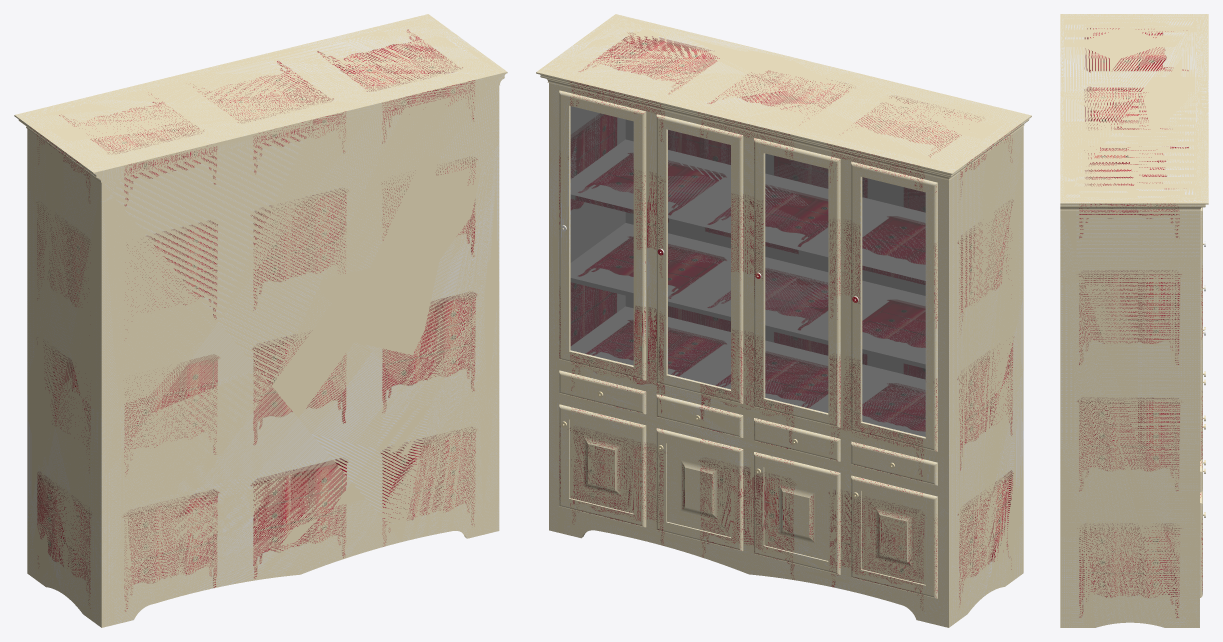
3 views of the same model, side by side, from view 1: azimuth 30°, elevation 25°; view 2: azimuth 150°, elevation 25°; view 3: azimuth 270°, elevation 25° (orthographic). The views are drawn at different scales.
Parts seen in each view (by area): view 1: mesh1_mesh1-geometry; view 2: mesh1_mesh1-geometry, mesh2_mesh2-geometry; view 3: mesh1_mesh1-geometry.
Part boxes in pixels (x1,y1,x2,y2): mesh1_mesh1-geometry: (14, 14, 507, 627); mesh1_mesh1-geometry: (536, 14, 1031, 627); mesh2_mesh2-geometry: (571, 106, 925, 436); mesh1_mesh1-geometry: (1060, 14, 1208, 627).
Bounding box in the file's own units: 0.6707 × 0.7077 × 0.2221.
